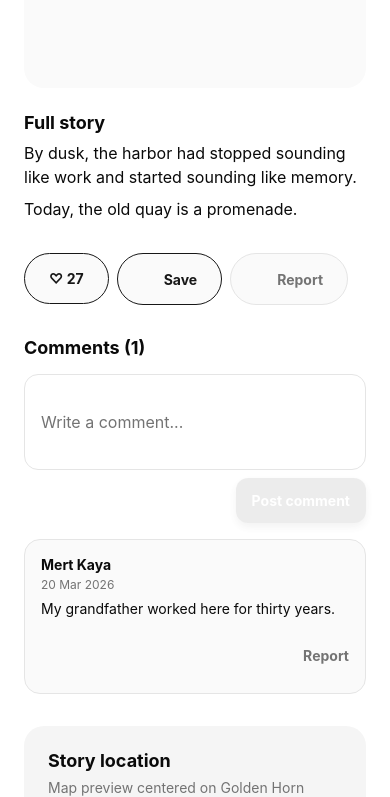
Test: StoryScreen › submits a new comment and shows it at the top
(page scrolled)
Type "My new comment" into the field named "Comment input" at [195, 422], box [25,398,365,446]
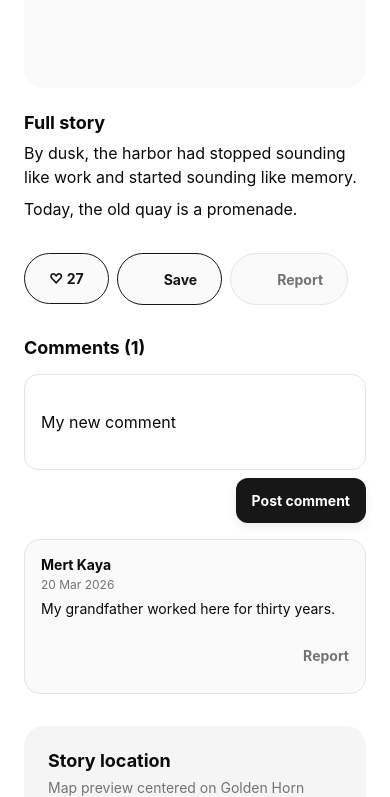
Click the button "Post comment" at [301, 500], box [236,478,366,523]
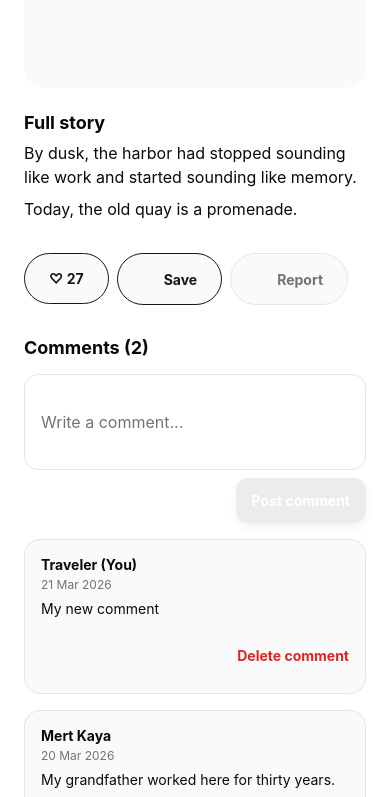
Result: the text "Comments (2)" is shown at [24,337,149,358]
Result: the text "My new comment" is shown at [41,600,159,617]
